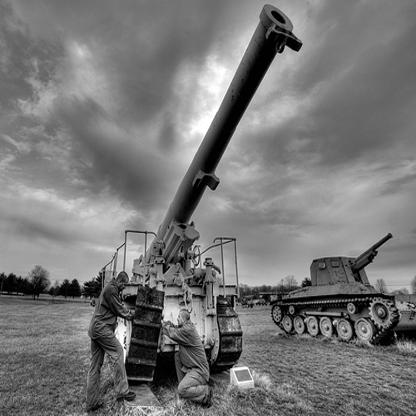Tank: (261, 231, 406, 350)
